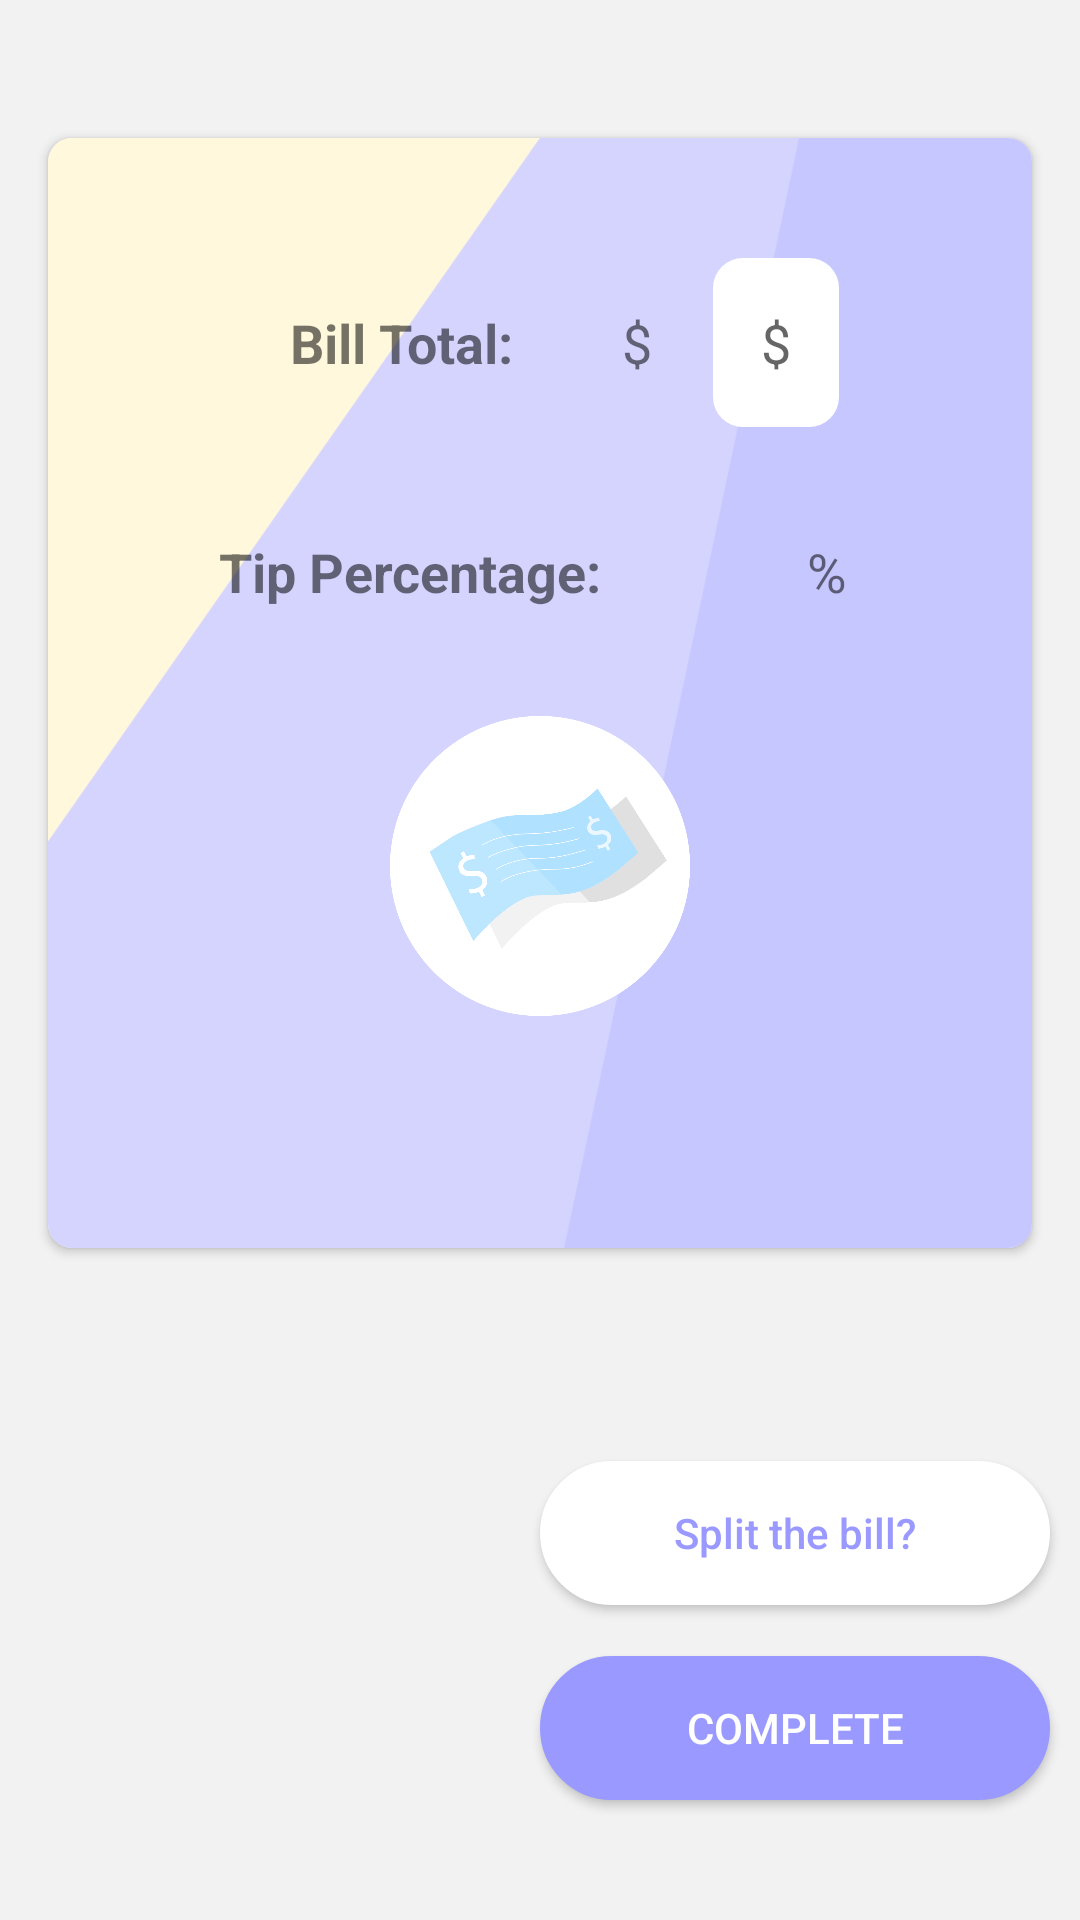

Named icons in this screenshot (1080×1920) and their centers, (x,y):
bill: (540,866)
